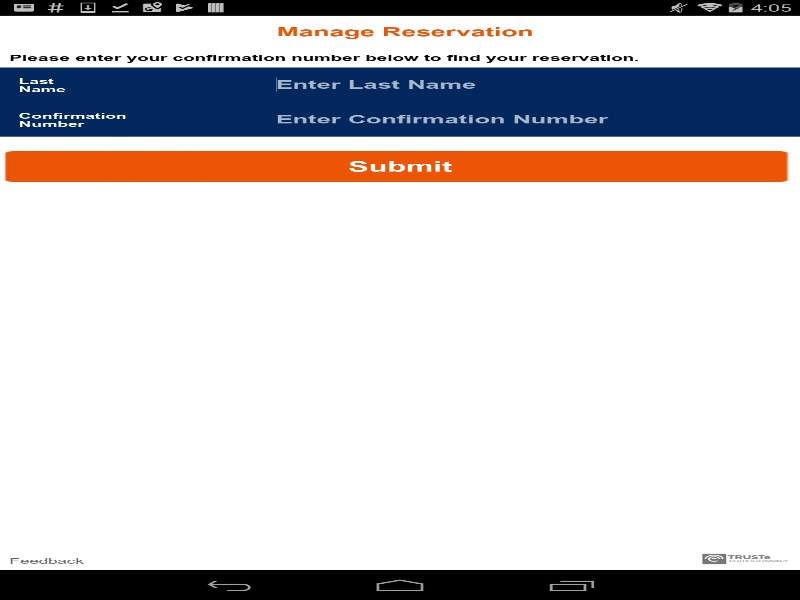Button: (0, 149, 800, 184)
Input: (266, 67, 800, 101), (266, 102, 800, 136)
